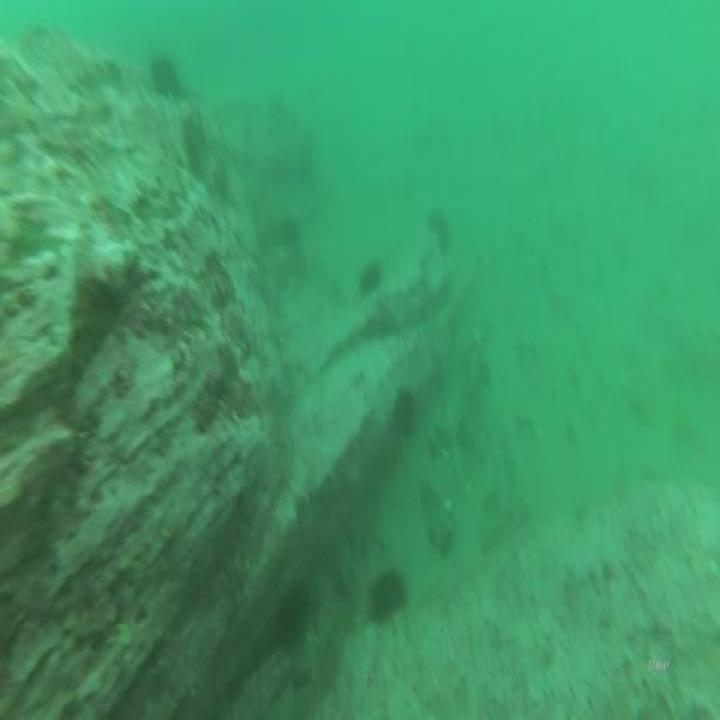echinus: (271, 576, 314, 651), (365, 565, 408, 631), (147, 49, 183, 100), (392, 384, 418, 443), (423, 202, 451, 252), (355, 256, 383, 302)
